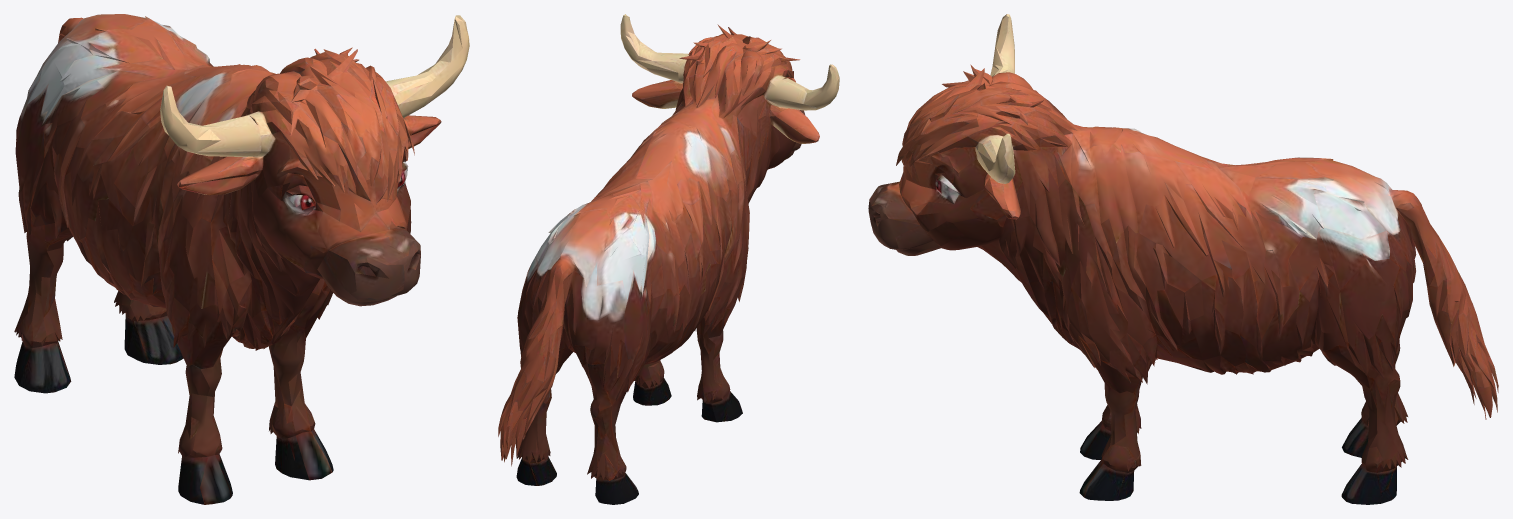
The model's file is yak.glb.
3 views of the same model, side by side, from view 1: azimuth 30°, elevation 25°; view 2: azimuth 150°, elevation 25°; view 3: azimuth 270°, elevation 25° (orthographic). The views are drawn at different scales.
Size of the model in its own units: 0.9023 by 1.34 by 1.9.
Materials: 1 (1 with a texture image).
